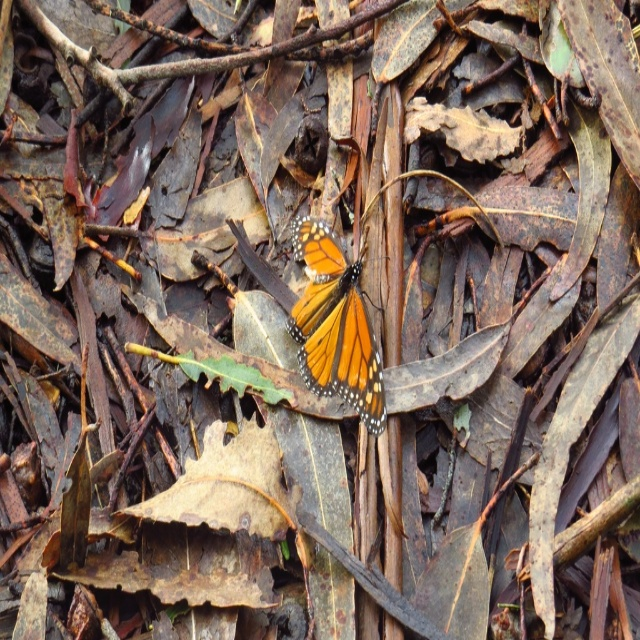Butterfly: (283, 212, 391, 438)
